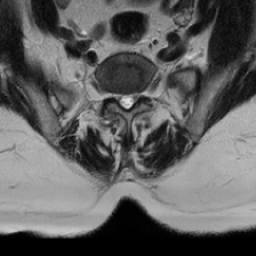CCS_stenosis: (122, 82, 130, 115)
LFS_stenosis: (137, 83, 145, 105)
LLS_normal: (130, 84, 137, 110)
RFS_stenosis: (106, 82, 115, 105)
RLS_normal: (115, 82, 122, 111)
